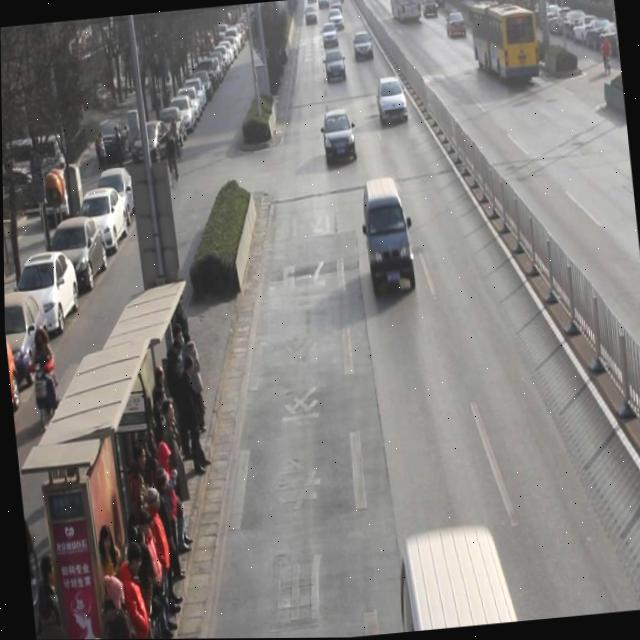car: (320, 108, 358, 167), (374, 73, 409, 128), (322, 49, 347, 85), (352, 31, 373, 63), (445, 10, 467, 40)
truck: (389, 526, 521, 633), (360, 177, 416, 299)
van: (467, 0, 540, 92)
